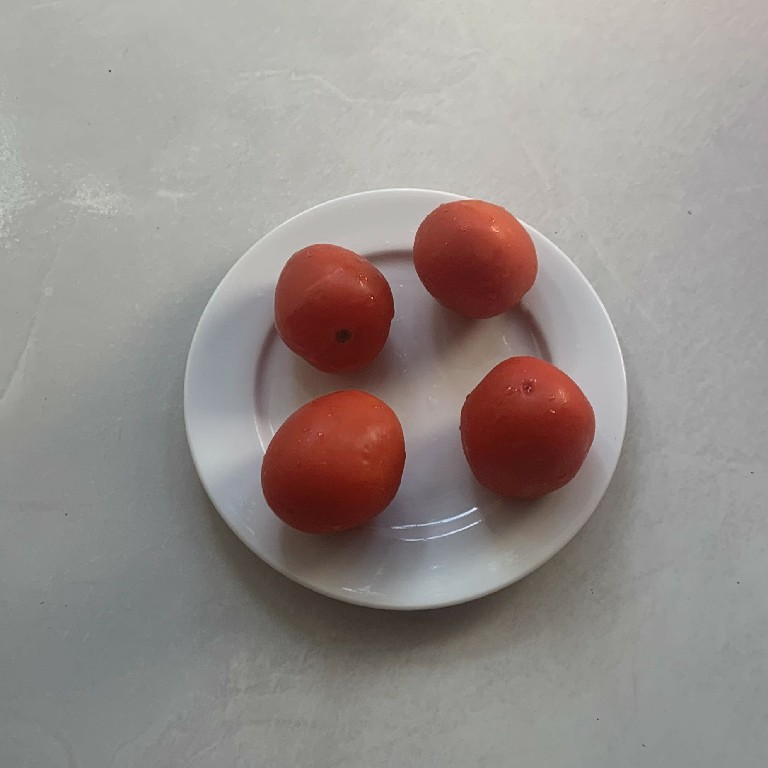OK: (262, 381, 404, 535), (459, 355, 600, 497), (271, 240, 398, 373), (413, 194, 540, 320)
